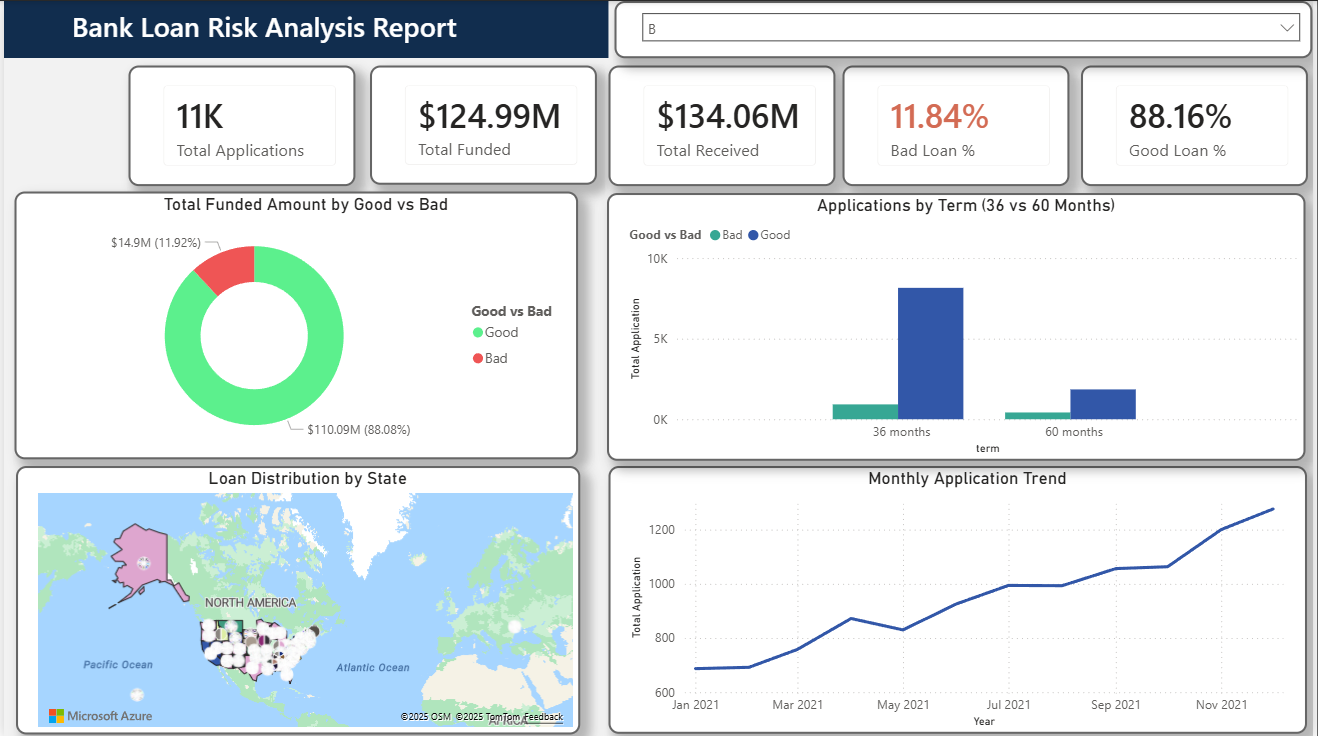

Layout of this report page (visuals, bound fields, positions):
{"tool":"powerbi","page":{"name":"Page 1","canvas":[1280,720],"ordinal":0},"visuals":[{"type":"cardVisual","fields":{"Data":["_Measures.Total Application"]},"box":[122.5,63.3,222.3,117.8],"z":0},{"type":"cardVisual","fields":{"Data":["_Measures.Total Funded Amount"]},"box":[358.1,63.3,222.3,116.4],"z":1000},{"type":"cardVisual","fields":{"Data":["_Measures.Total Amount Received"]},"box":[590.9,63.3,222.3,117.8],"z":2000},{"type":"cardVisual","fields":{"Data":["_Measures.Bad Loan %"]},"box":[820.6,63.3,222.3,117.8],"z":3000},{"type":"cardVisual","fields":{"Data":["_Measures.Good Loan %"]},"box":[1053.3,63.3,222,117.8],"z":4000},{"type":"donutChart","fields":{"Category":["Sheet1.Good vs Bad"],"Y":["_Measures.Total Funded Amount"]},"box":[10.8,185.7,551,262],"z":5000},{"type":"lineChart","title":"Monthly Application Trend","fields":{"Y":["_Measures.Total Application"],"Category":["Sheet1.issue_date.Variation.Date Hierarchy.Year","Sheet1.issue_date.Variation.Date Hierarchy.Quarter","Sheet1.issue_date.Variation.Date Hierarchy.Month"]},"box":[590.7,455,683.2,262],"z":6000},{"type":"azureMap","title":"Loan Distribution by State","fields":{"Category":["Sheet1.address_state"],"Series":["Sheet1.loan_amount"]},"box":[11.9,455,551.9,262.5],"z":7000},{"type":"clusteredColumnChart","title":"Applications by Term (36 vs 60 Months)","fields":{"Category":["Sheet1.term"],"Y":["_Measures.Total Application"],"Series":["Sheet1.Good vs Bad"]},"box":[590.5,187.2,683.2,262],"z":8000},{"type":"slicer","fields":{"Values":["Sheet1.Grade"]},"box":[597.2,0,682.4,55.8],"z":9000},{"type":"shape","box":[0,0,591.4,55.8],"z":10001},{"type":"textbox","box":[24.9,1.5,469.6,51.4],"z":10501}]}

Visuals, with their boxes in screenshot pixels (x1, y1, x2, y2), scaled from the page's 1280x720 canvas onto the 1318x736 screenshot:
cardVisual - _Measures.Total Application: locate(126, 65, 355, 185)
cardVisual - _Measures.Total Funded Amount: locate(369, 65, 598, 184)
cardVisual - _Measures.Total Amount Received: locate(608, 65, 837, 185)
cardVisual - _Measures.Bad Loan %: locate(845, 65, 1074, 185)
cardVisual - _Measures.Good Loan %: locate(1085, 65, 1313, 185)
donutChart - Sheet1.Good vs Bad x _Measures.Total Funded Amount: locate(11, 190, 578, 458)
"Monthly Application Trend" lineChart: locate(608, 465, 1312, 733)
"Loan Distribution by State" azureMap: locate(12, 465, 581, 733)
"Applications by Term (36 vs 60 Months)" clusteredColumnChart: locate(608, 191, 1312, 459)
slicer - Sheet1.Grade: locate(615, 0, 1317, 57)
shape: locate(0, 0, 609, 57)
textbox: locate(26, 2, 509, 54)
